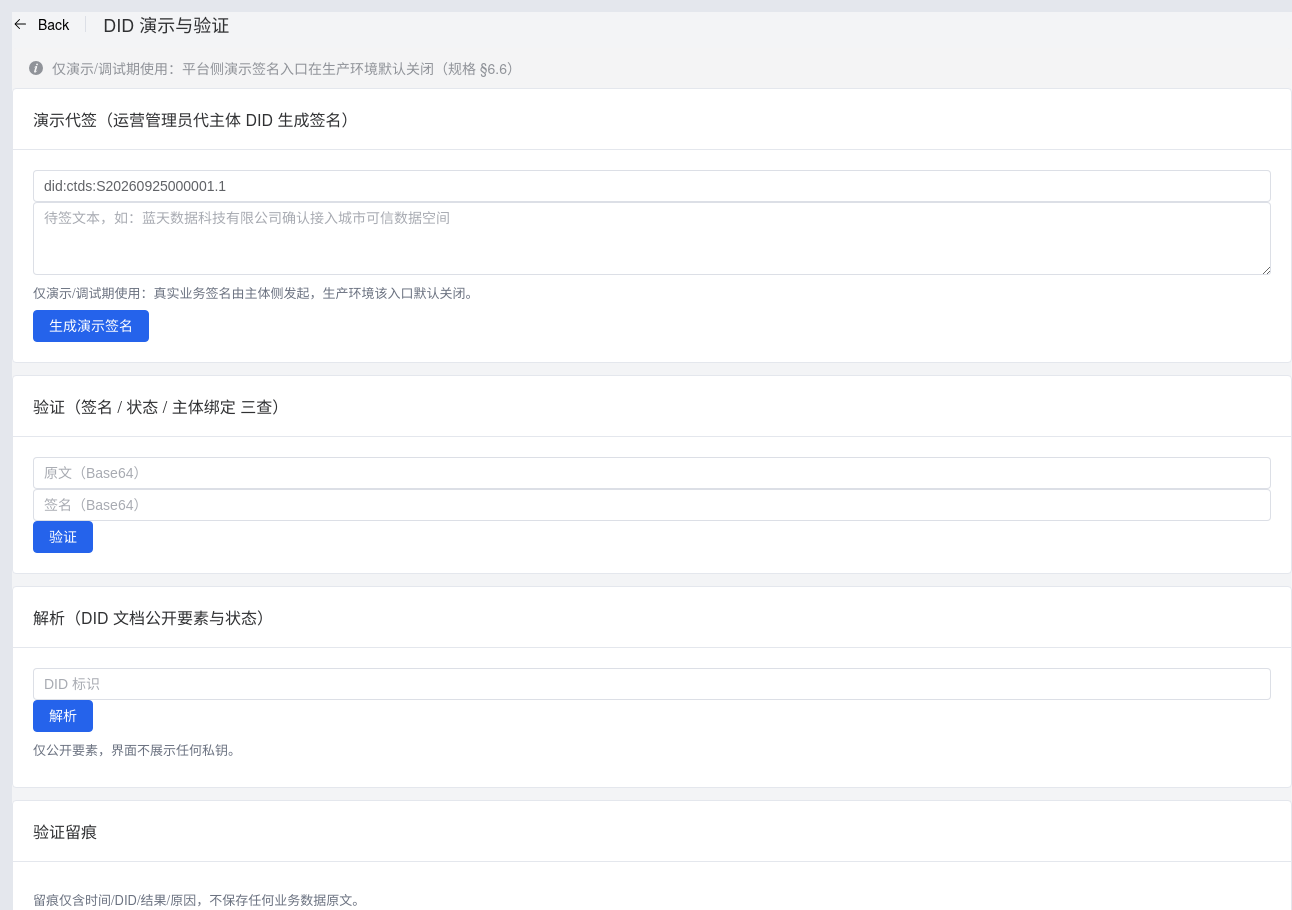
Scenario: DID 演示与验证页（WBS-3.1.11 T14/T15） › 演示代签成功：展示原文与签名 Base64，并自动填入验证区
The image size is (1292, 910).
Expected: the 1st field holds "did:ctds:S20260925000001.1", [44,171,1260,201]
Type "蓝天数据科技有限公司确认接入城市可信数据空间" into the text box with placeholder "待签文本，如：蓝天数据科技有限公司确认接入城市可信数据空间". click: (652, 238)
box: [33,202,1271,275]
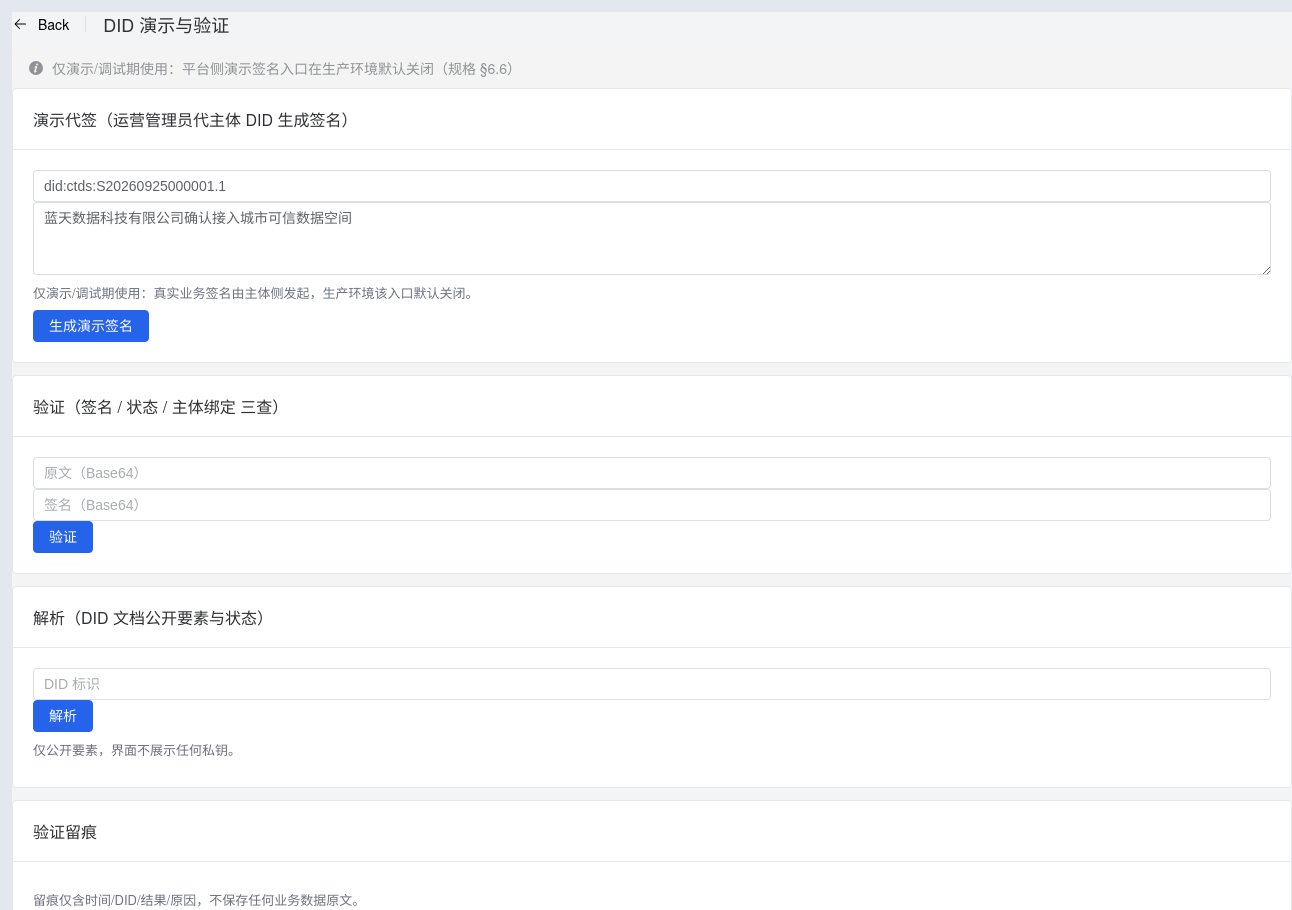
Click the button with class "demo-sign-btn". click: (91, 326)
box: [33,310,149,342]
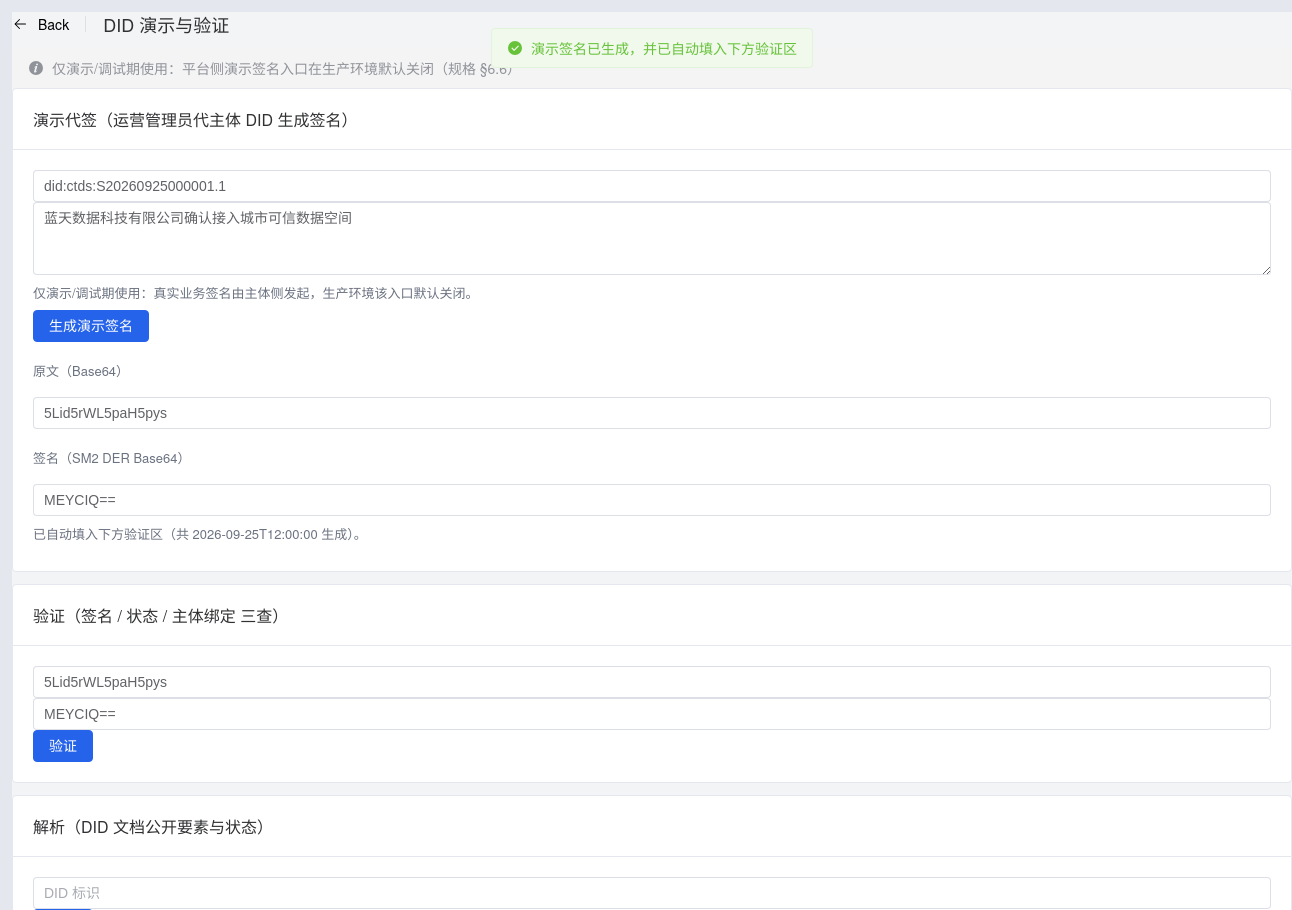
Result: the 2nd field holds "5Lid5rWL5paH5pys" at [44,398,1260,428]
Result: the 3rd field holds "MEYCIQ==" at [44,485,1260,515]
Result: the 4th field holds "5Lid5rWL5paH5pys" at [44,667,1260,697]
